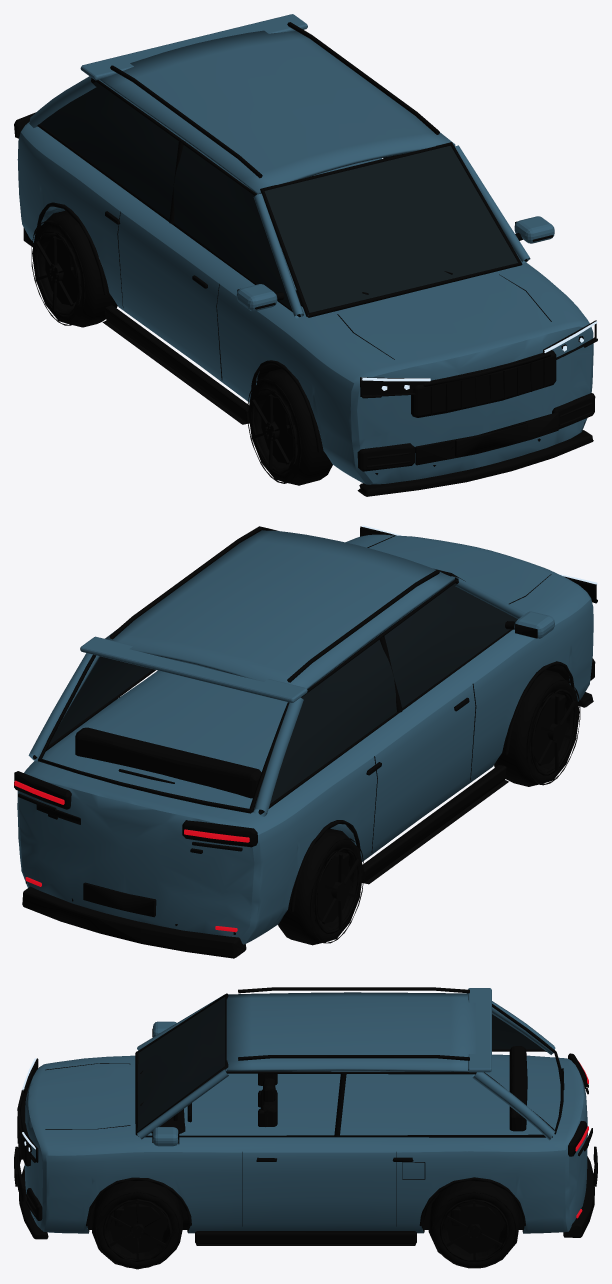
The model's file is suv-mid.glb.
3 views of the same model, one above another, from view 1: azimuth 30°, elevation 25°; view 2: azimuth 150°, elevation 25°; view 3: azimuth 270°, elevation 25° (orthographic). The views are drawn at different scales.
Parts seen in each view (by area): view 1: chassis.001__Automotive clearcoat, chassis.001__Solar glass, chassis.001__Vehicle detail atlas, wheel_FL.001__Vehicle detail atlas, wheel_RL.001__Vehicle detail atlas; view 2: chassis.001__Automotive clearcoat, chassis.001__Vehicle detail atlas, chassis.001__Solar glass, wheel_RL.001__Vehicle detail atlas, wheel_FL.001__Vehicle detail atlas, chassis.001__Red LED optics; view 3: chassis.001__Automotive clearcoat, chassis.001__Vehicle detail atlas, chassis.001__Solar glass, wheel_FR.001__Vehicle detail atlas, wheel_RR.001__Vehicle detail atlas.
Part boxes in pixels (x1,y1,x2,y2): chassis.001__Automotive clearcoat: (17, 14, 593, 484); chassis.001__Solar glass: (40, 82, 518, 315); chassis.001__Vehicle detail atlas: (14, 22, 596, 496); wheel_FL.001__Vehicle detail atlas: (247, 368, 332, 485); wheel_RL.001__Vehicle detail atlas: (31, 210, 117, 327); chassis.001__Automotive clearcoat: (17, 530, 593, 944); chassis.001__Vehicle detail atlas: (14, 526, 596, 958); chassis.001__Solar glass: (48, 583, 517, 803); wheel_RL.001__Vehicle detail atlas: (278, 828, 363, 945); wheel_FL.001__Vehicle detail atlas: (494, 669, 580, 786); chassis.001__Red LED optics: (14, 780, 249, 932); chassis.001__Automotive clearcoat: (24, 988, 587, 1233); chassis.001__Vehicle detail atlas: (14, 987, 597, 1245); chassis.001__Solar glass: (137, 997, 542, 1130); wheel_FR.001__Vehicle detail atlas: (91, 1181, 183, 1269); wheel_RR.001__Vehicle detail atlas: (428, 1180, 519, 1268).
Bounding box in the file's own units: 2.19 × 1.73 × 4.63.
Materials: 8 (6 with a texture image).
